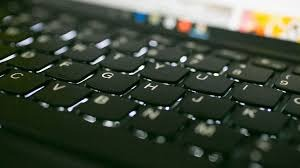keyboard: (5, 62, 300, 166)
